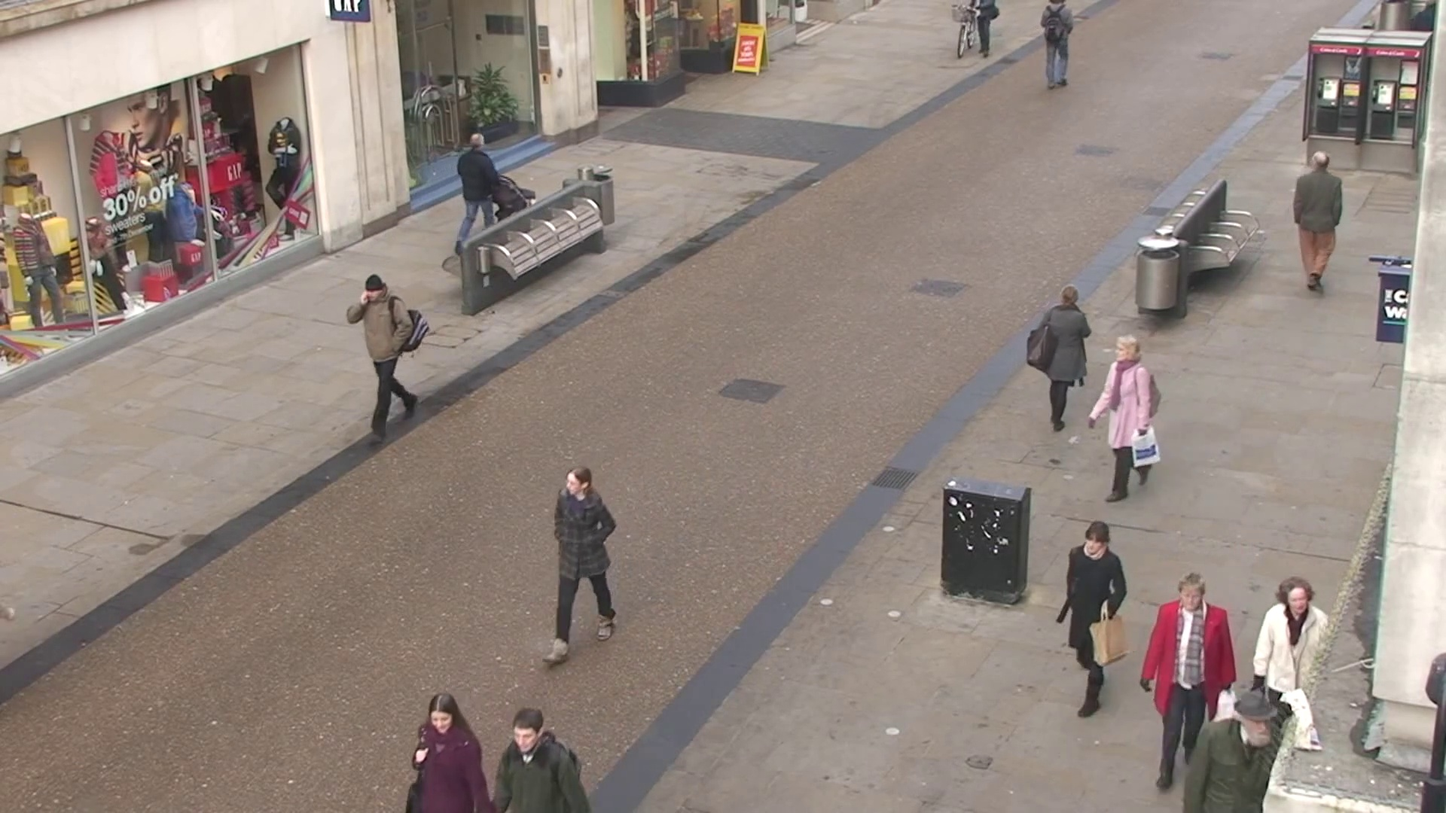person: (1139, 571, 1239, 789), (1181, 678, 1290, 813), (1057, 520, 1130, 718), (1252, 577, 1334, 752), (549, 466, 620, 661), (346, 273, 427, 434), (1088, 333, 1161, 502), (407, 693, 494, 813), (493, 707, 591, 813), (452, 128, 518, 283), (1027, 284, 1091, 434), (1292, 148, 1344, 296), (266, 117, 304, 235), (1041, 2, 1075, 88), (953, 0, 980, 56), (975, 0, 1000, 56)
